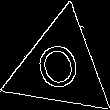O_S: (32, 35, 88, 99)
